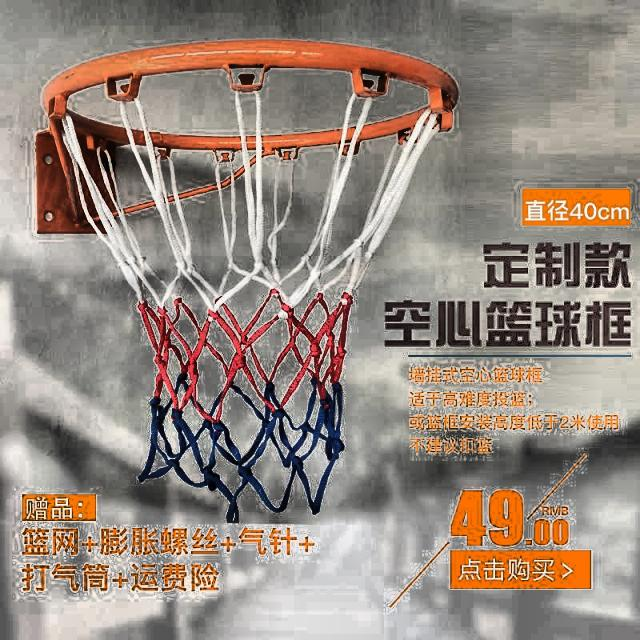rim: (47, 40, 459, 513)
